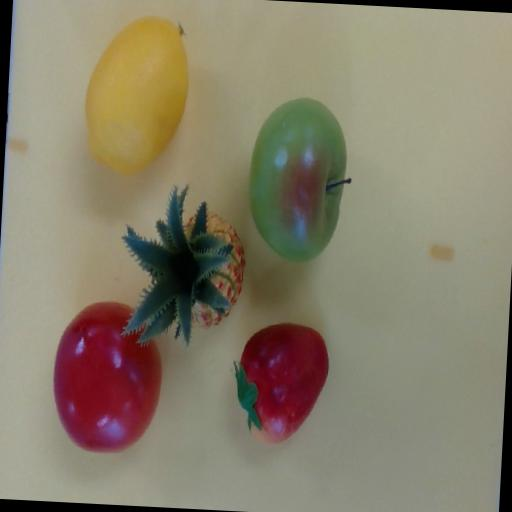apple: (235, 90, 360, 267)
lemon: (77, 10, 198, 181)
mango: (209, 304, 344, 454)
pineapple: (122, 185, 245, 345)
tomato: (49, 298, 166, 456)
